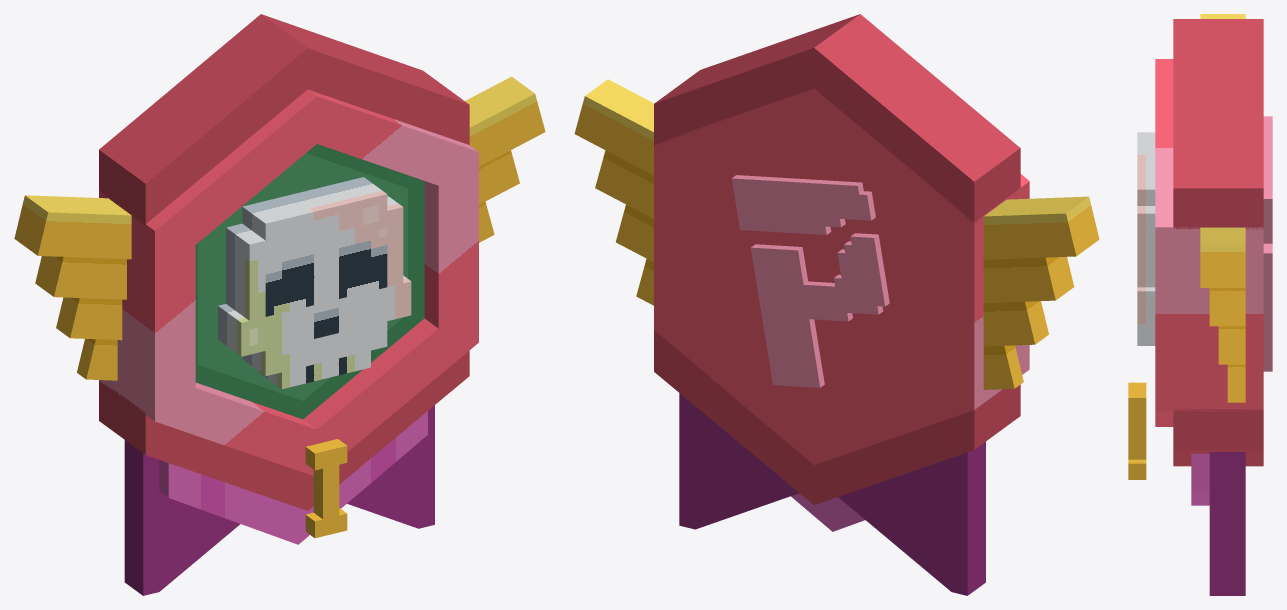
The picture shows the model from 3 angles, left to right: view 1: azimuth 30°, elevation 25°; view 2: azimuth 150°, elevation 25°; view 3: azimuth 270°, elevation 25°; orthographic projection. The views are drawn at different scales.
Parts seen in each view (by area): view 1: cuboid (×7), cylinder, skull; view 2: cuboid (×6), cylinder, p_logo; view 3: cuboid (×7), cylinder, skull, p_logo.
Boxes of the visible parts, bbox=[...] form: cuboid (×7): bbox=[14, 14, 545, 595]; cylinder: bbox=[99, 89, 478, 475]; skull: bbox=[218, 177, 411, 388]; cuboid (×6): bbox=[574, 14, 1099, 595]; cylinder: bbox=[654, 88, 1029, 464]; p_logo: bbox=[731, 175, 889, 387]; cuboid (×7): bbox=[1128, 14, 1263, 595]; cylinder: bbox=[1155, 59, 1263, 426]; skull: bbox=[1137, 132, 1155, 345]; p_logo: bbox=[1263, 116, 1272, 371].
Size of the model in its own units: 3.92 by 3.88 by 1.
3 materials, 3 textured.
